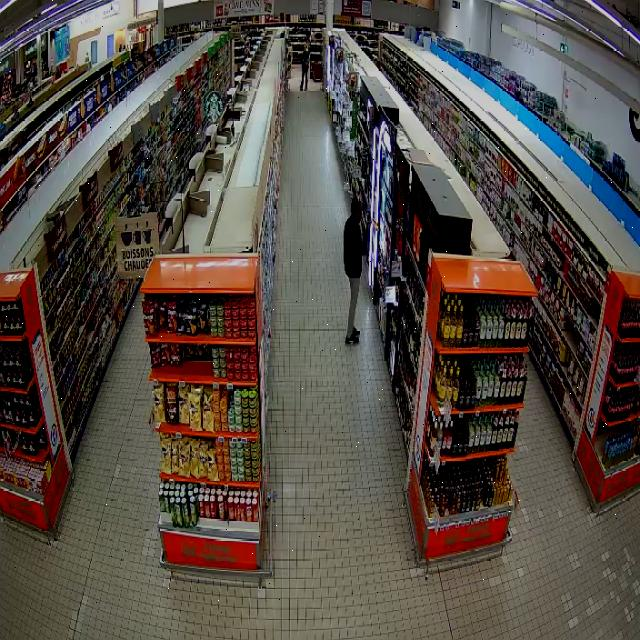article: (371, 219, 378, 230)
hands: (367, 216, 371, 226)
person: (343, 198, 371, 344)
